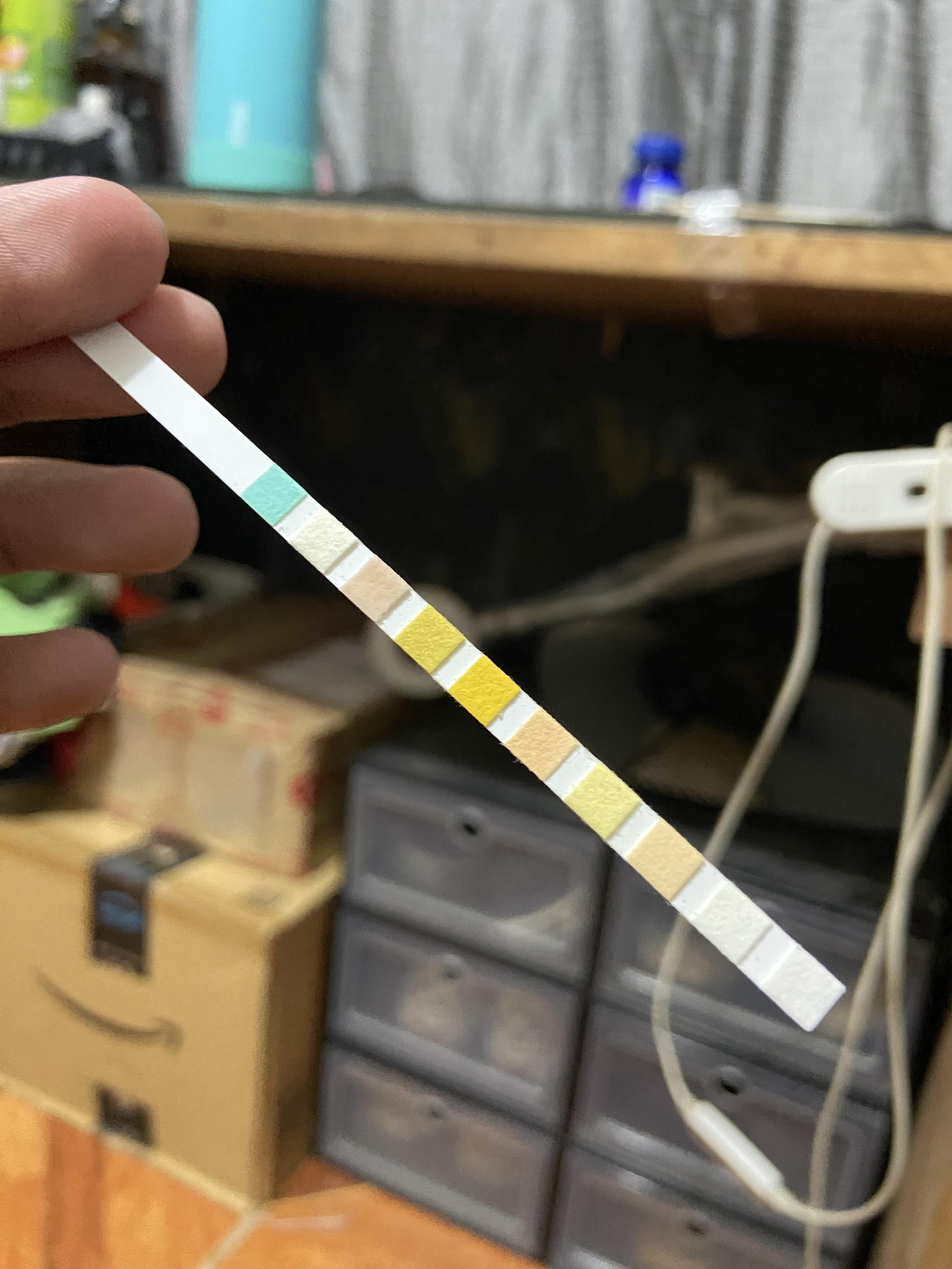Bilirubin: (308, 526, 342, 556)
Blood: (465, 674, 504, 708)
Glucose: (257, 480, 289, 510)
Ketone: (357, 574, 395, 604)
Leukocytes: (779, 966, 822, 1004)
Nitrite: (707, 902, 752, 939)
Protein: (581, 782, 624, 817)
SpGravity: (412, 622, 448, 656)
Urobilinogen: (644, 838, 684, 876)
pH: (522, 726, 562, 760)
strip: (72, 321, 845, 1032)
